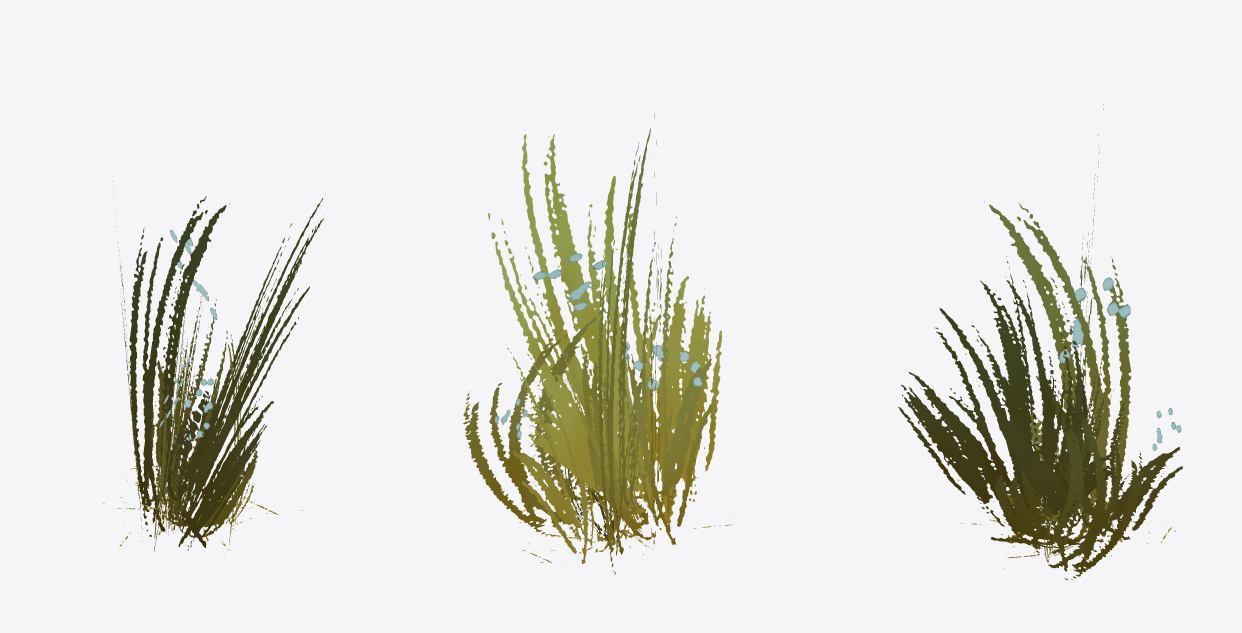
The model's file is grass28.fbx.
3 renders of one model, left to right at view 1: azimuth 30°, elevation 25°; view 2: azimuth 150°, elevation 25°; view 3: azimuth 270°, elevation 25°, orthographic. The views are drawn at different scales.
Parts seen in each view (by area): view 1: Glowing Flower 3_BAKED; view 2: Glowing Flower 3_BAKED; view 3: Glowing Flower 3_BAKED.
Part boxes in pixels (x1,y1,x2,y2): Glowing Flower 3_BAKED: (103,107,325,557); Glowing Flower 3_BAKED: (463,113,731,574); Glowing Flower 3_BAKED: (898,104,1182,579).
Size of the model in its own units: 41.89 by 30.97 by 63.42.
